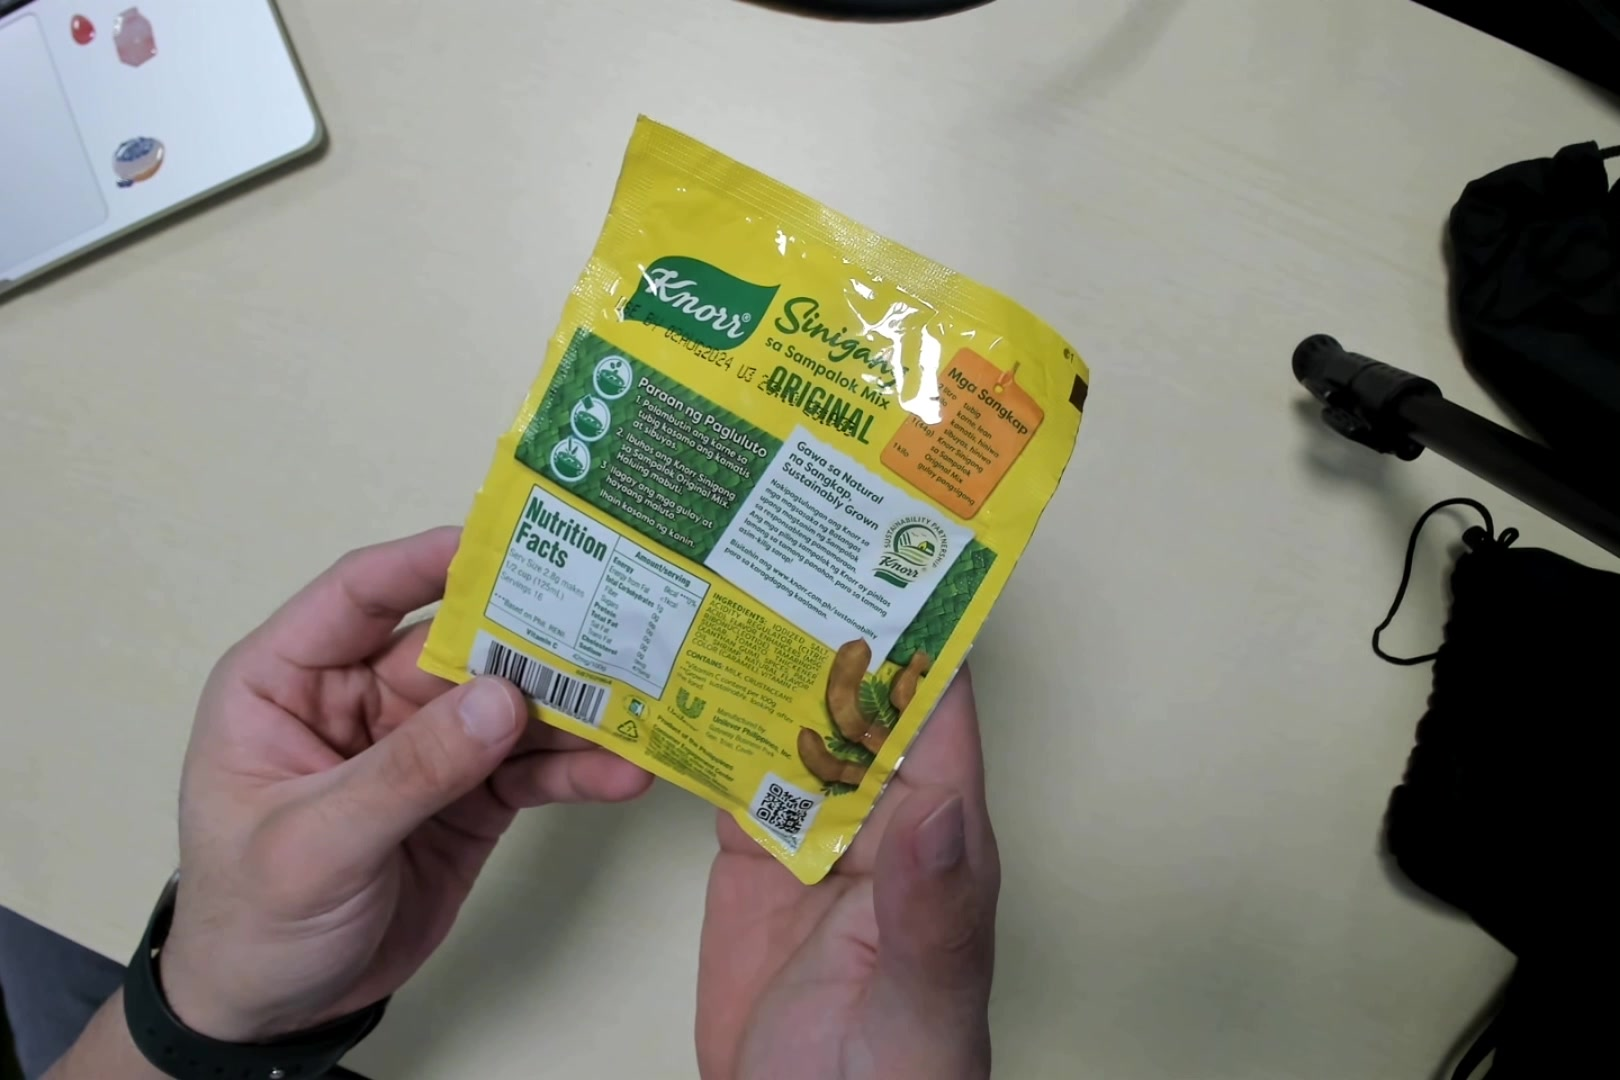SoupStock_0-99g_NonHalal_NonHealthy: (422, 127, 1097, 880)
